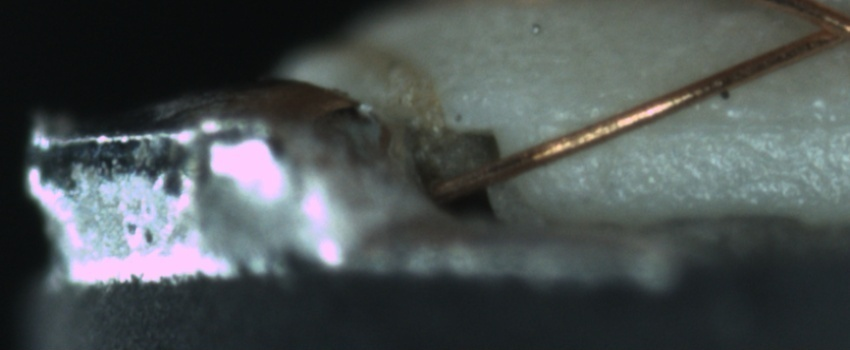CL: (791, 4, 850, 54)
DL: (550, 92, 850, 153)
